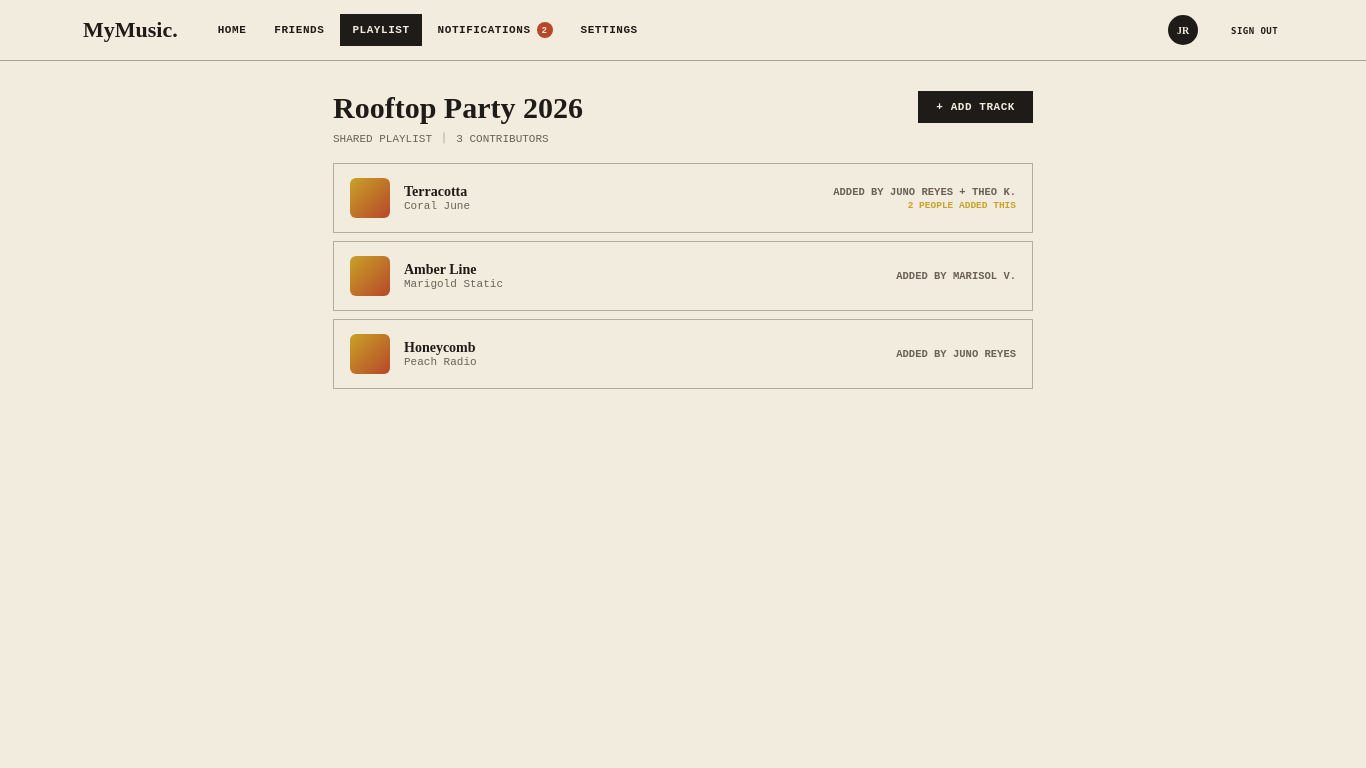
Scenario: shared playlist › warns when adding a track someone already contributed
Click the button "+ ADD TRACK": (976, 107) [918,91,1033,123]
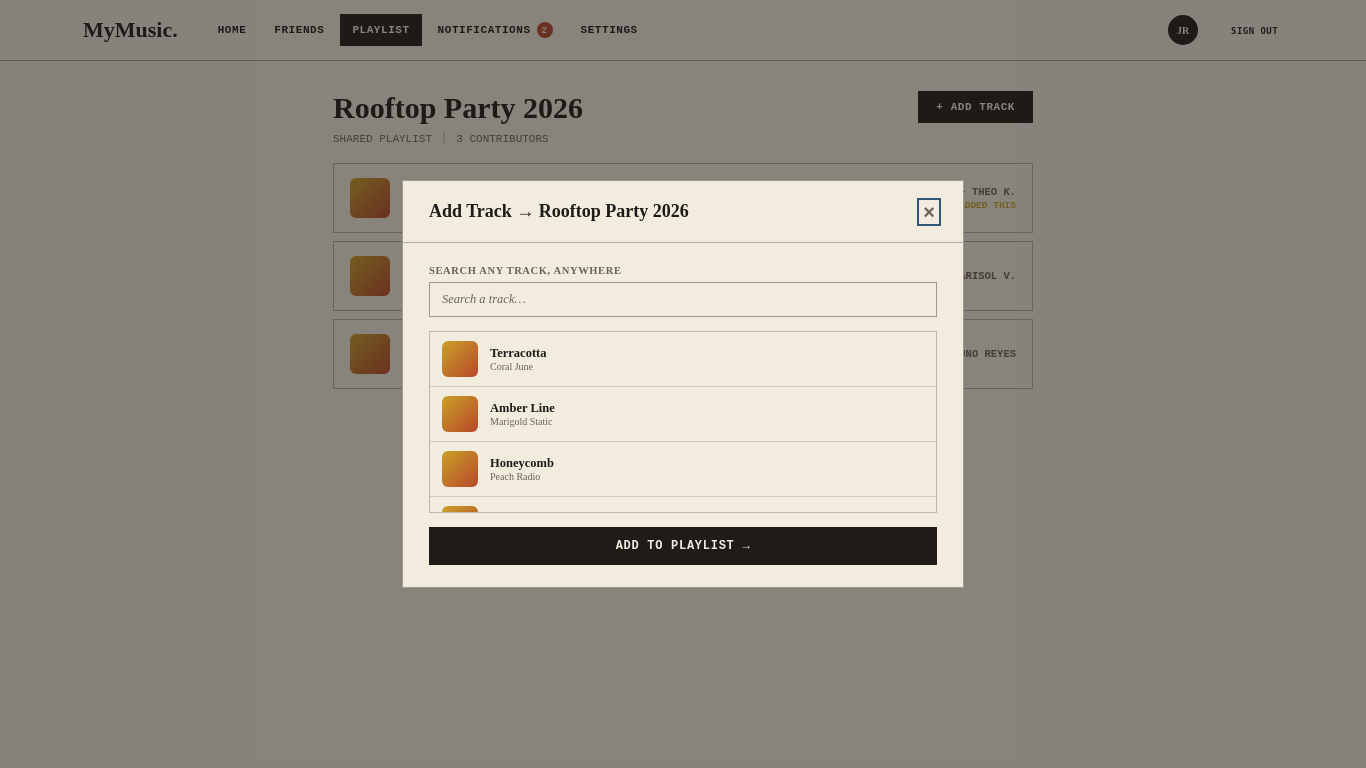
Click the button "Terracotta Coral June": (460, 359) [430,332,936,387]
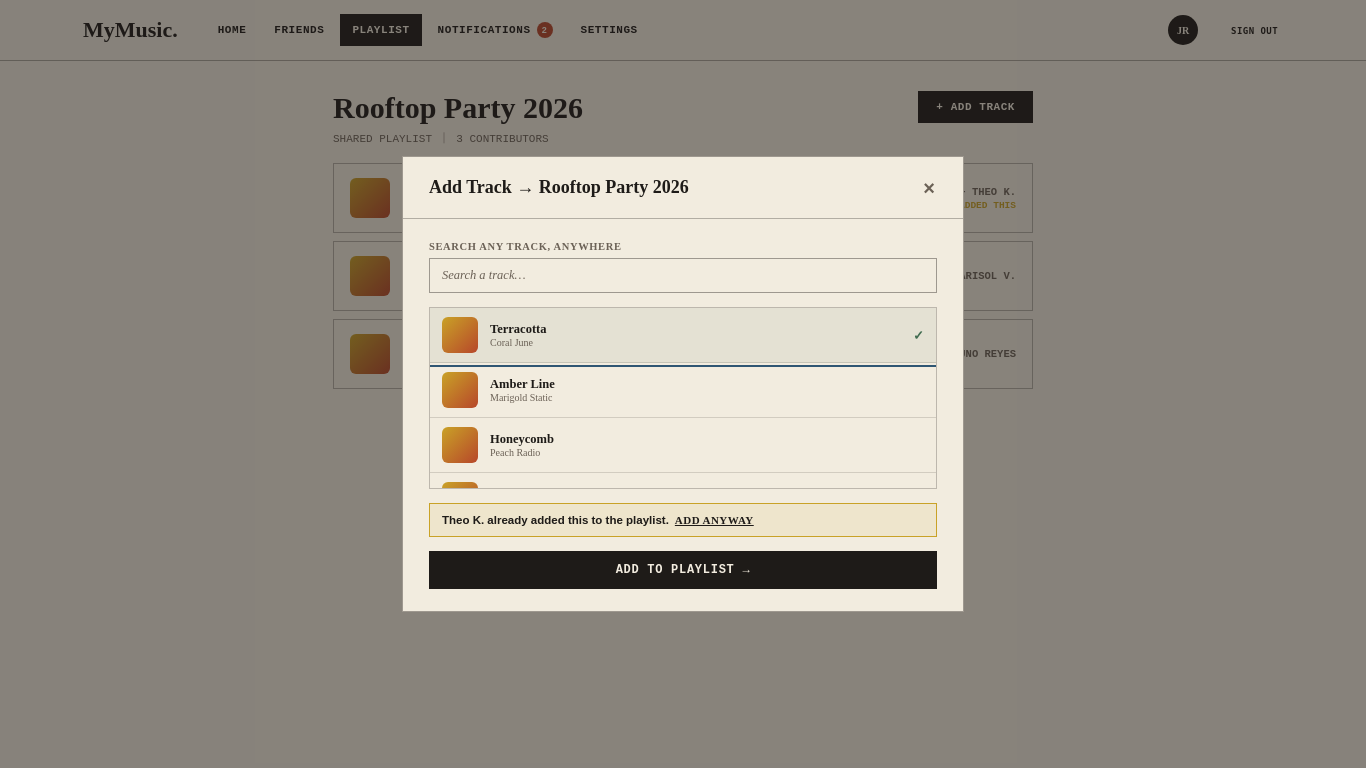
Result: the button "ADD ANYWAY" is shown at [675,514,754,526]
Result: the text "Theo K. already added this to the playlist. ADD ANYWAY" is shown at [429,503,937,537]
